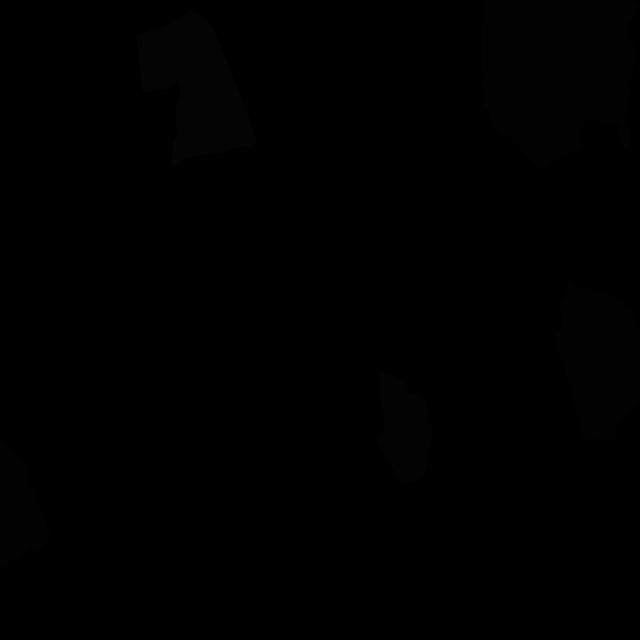cardboard: (481, 0, 640, 171), (554, 281, 640, 441), (0, 439, 51, 570)
metal: (376, 370, 432, 484)
soft_plastic: (136, 11, 257, 169)
